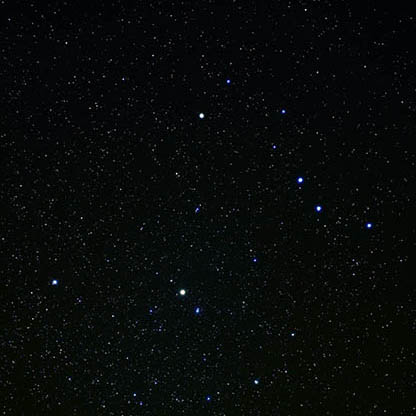Ursa Major: (307, 196, 331, 221), (188, 101, 211, 126), (261, 135, 284, 160), (359, 213, 376, 239), (273, 101, 292, 122), (288, 169, 307, 190), (220, 68, 237, 91)
